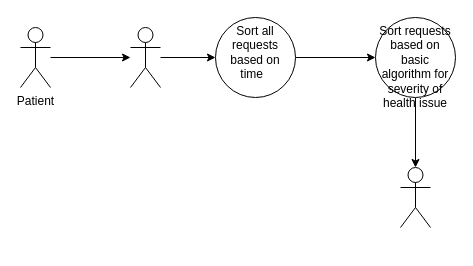
Some shapes in this 473 by 266 pixel diagram are drawn without their labels. The shapes that lost their labels are listed below. From the top down, each one's centre as x and y in pixels, then its label:
At [145,57]: "Mister Ed".
At [415,197]: "Hospital".
